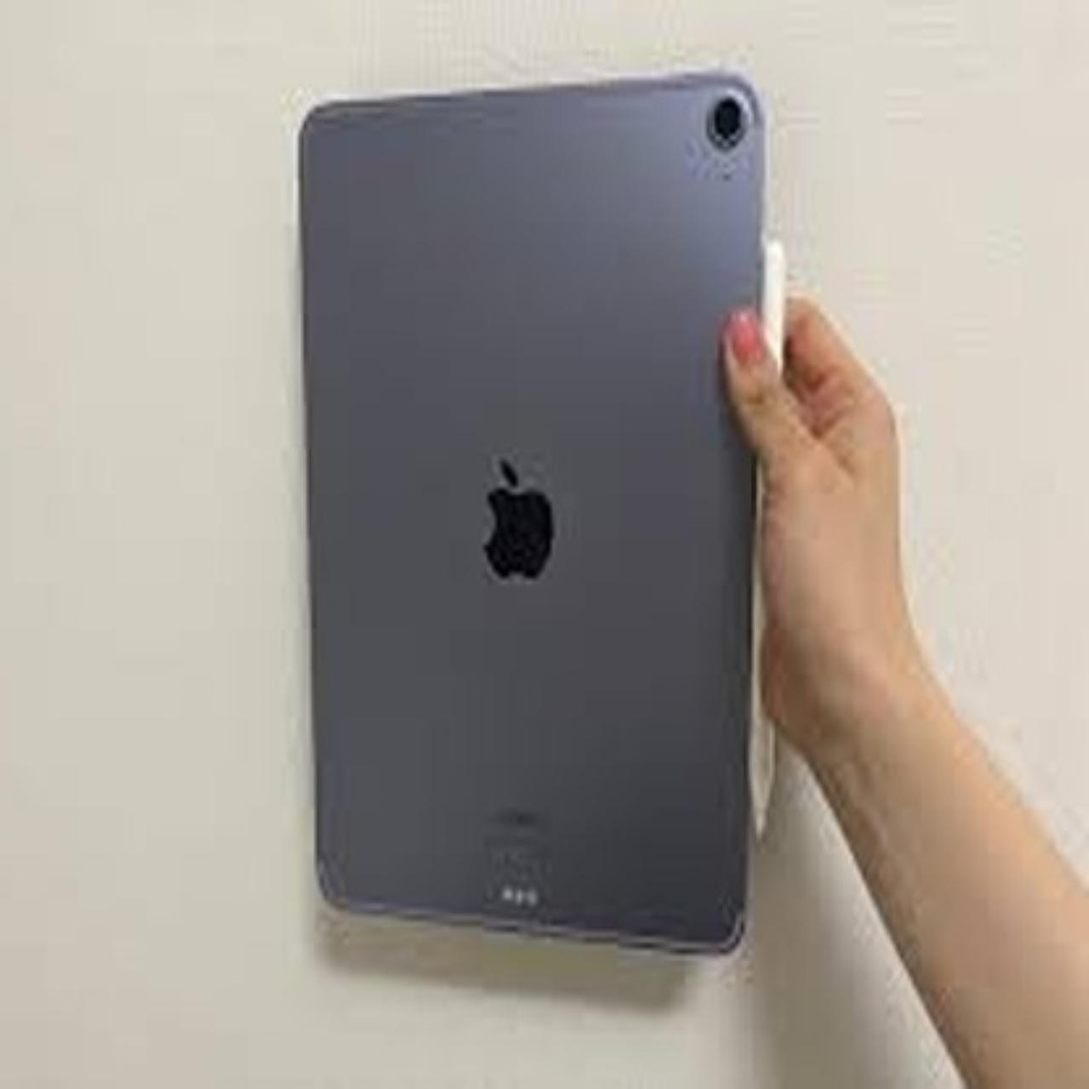Tablet_PC: (259, 55, 806, 979)
